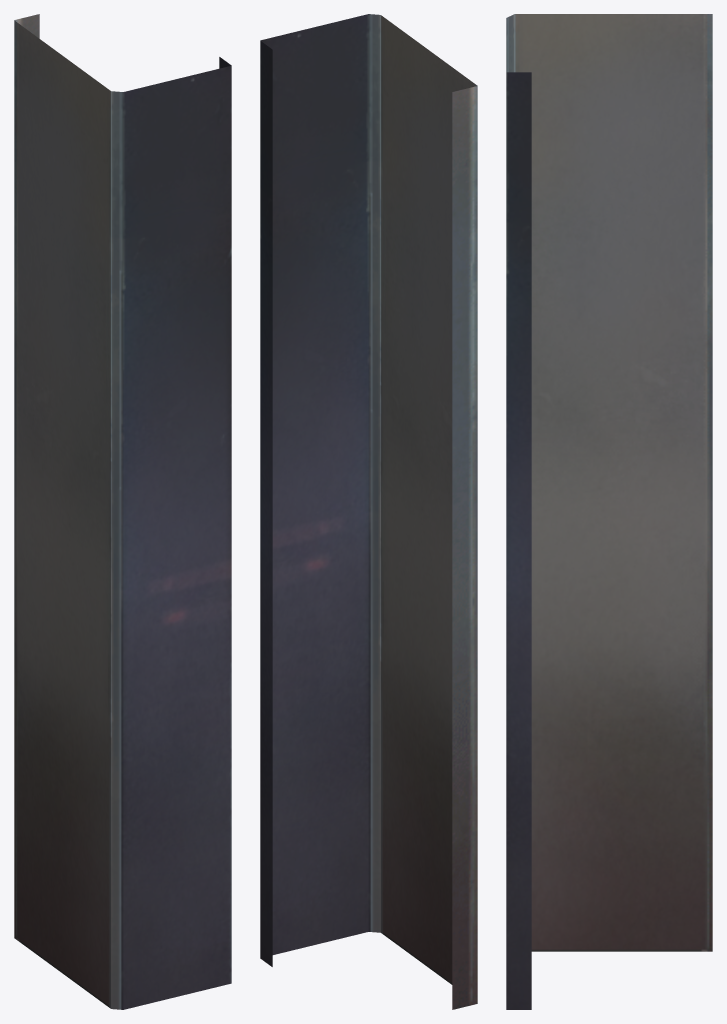
Rendered from Julebu_Zhuzi_fbx.FBX.
The picture shows the model from 3 angles, left to right: view 1: azimuth 30°, elevation 25°; view 2: azimuth 210°, elevation 25°; view 3: azimuth 270°, elevation 25°; orthographic projection. The views are drawn at different scales.
Visible parts, largest first — view 1: Object015; view 2: Object015; view 3: Object015.
Part boxes in pixels (<box>): Object015: <box>14,14,231,1009</box>; Object015: <box>260,14,477,1009</box>; Object015: <box>506,14,712,1009</box>.
Bounding box in the file's own units: 0.6675 × 5.02 × 1.
